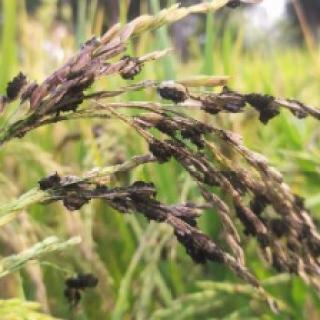Gosong-Palsu: (32, 170, 94, 213), (127, 174, 168, 230), (247, 85, 280, 130), (65, 268, 100, 308), (158, 74, 191, 108), (2, 64, 24, 104)
